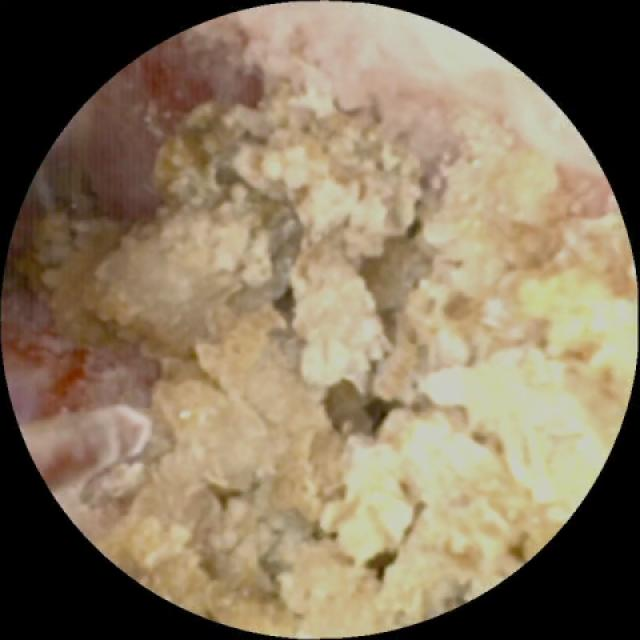stone: (16, 62, 626, 626)
